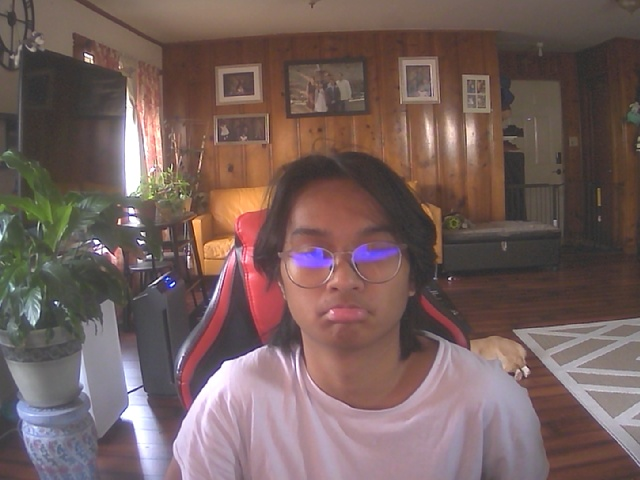sad: (275, 153, 422, 350)
